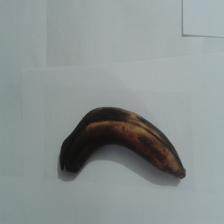Banana Rotten: (58, 95, 199, 198)
